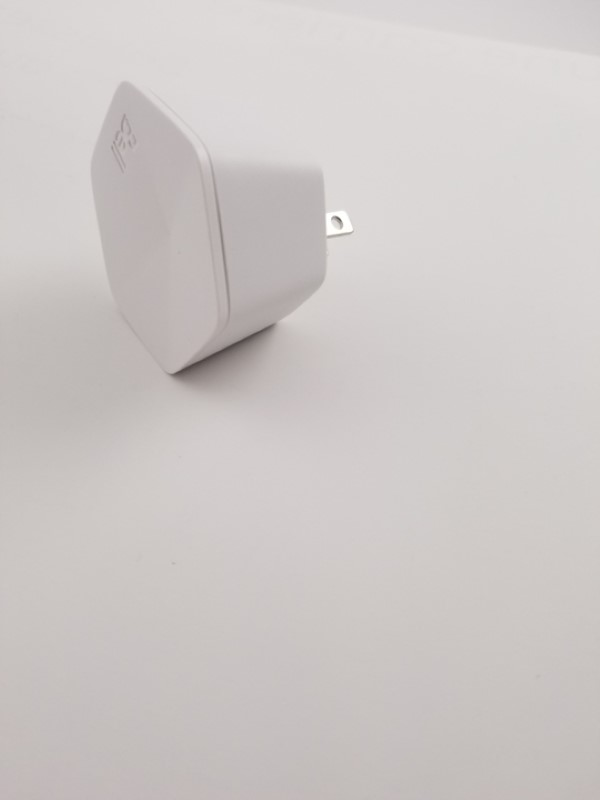pod: (86, 77, 364, 386)
